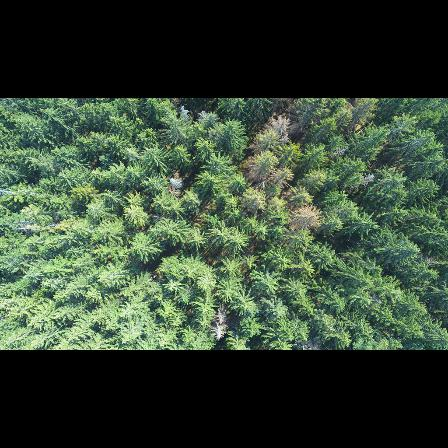Dead: (286, 204, 325, 234), (265, 114, 294, 140), (210, 309, 230, 340), (166, 174, 186, 194), (355, 172, 377, 188)
